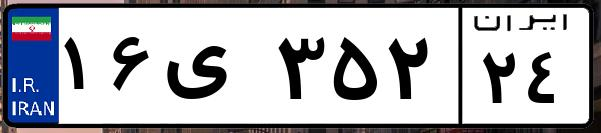1: (57, 26, 110, 100)
2: (385, 28, 445, 110), (475, 38, 525, 113)
3: (270, 28, 330, 110)
4: (525, 38, 570, 115)
5: (330, 28, 385, 110)
6: (110, 28, 158, 98)
ی: (158, 20, 270, 120)
